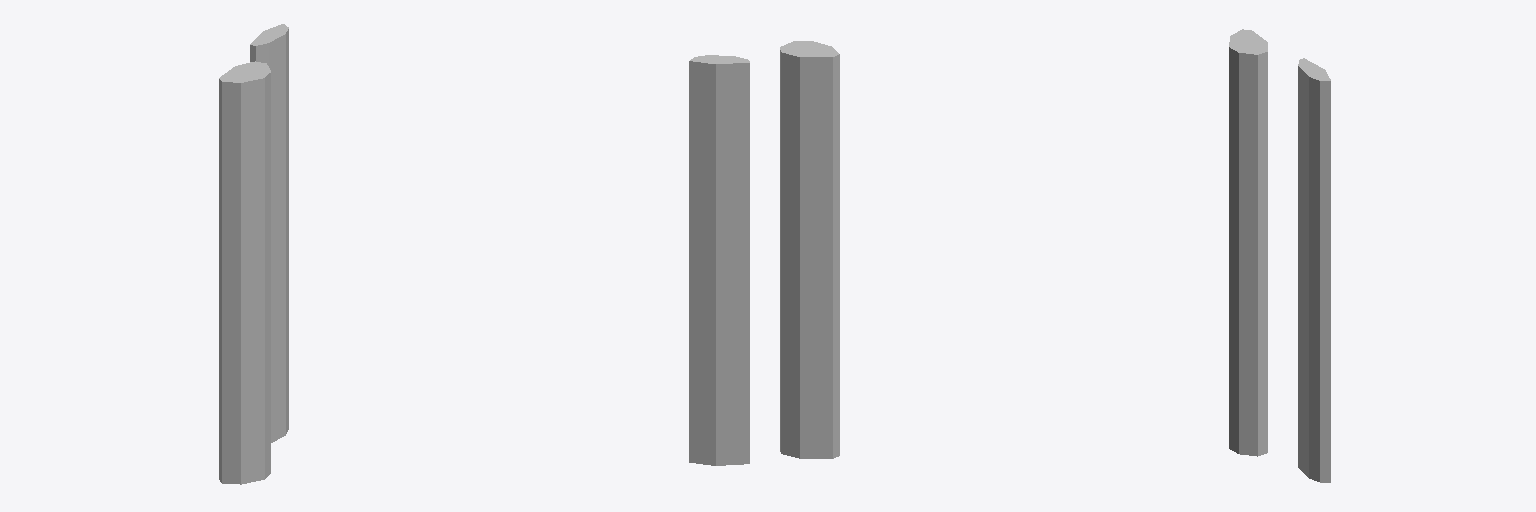
3 views of the same model, side by side, from view 1: azimuth 30°, elevation 25°; view 2: azimuth 150°, elevation 25°; view 3: azimuth 270°, elevation 25° (orthographic).
Parts seen in each view (by area): view 1: FJ.002_CUCurve.1734; view 2: FJ.002_CUCurve.1734; view 3: FJ.002_CUCurve.1734.
Boxes of the visible parts, x1,y1,x2,y2 form: FJ.002_CUCurve.1734: [219, 24, 288, 484]; FJ.002_CUCurve.1734: [689, 41, 839, 465]; FJ.002_CUCurve.1734: [1229, 29, 1330, 482].
Bounding box in the file's own units: 0.0138 × 0.05 × 0.0116.